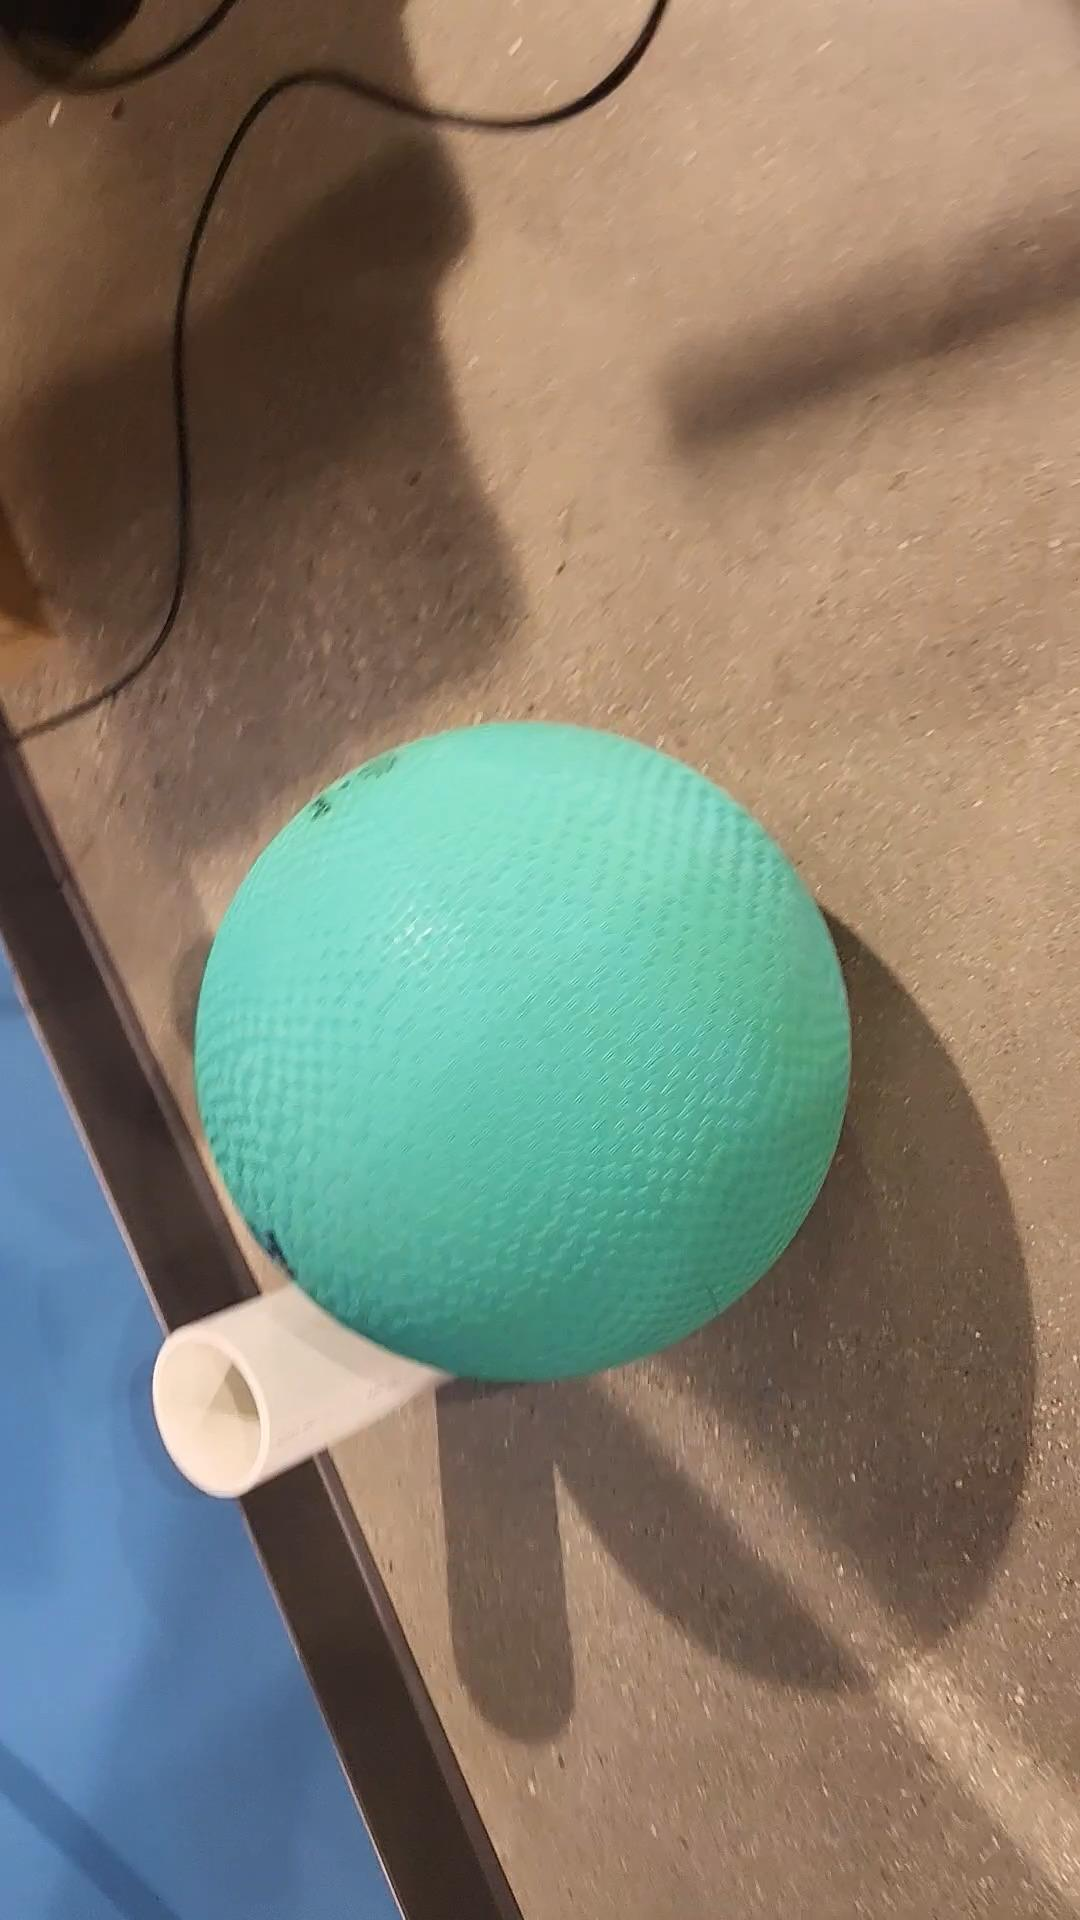algae: (198, 725, 852, 1387)
coral: (156, 1284, 458, 1495)
